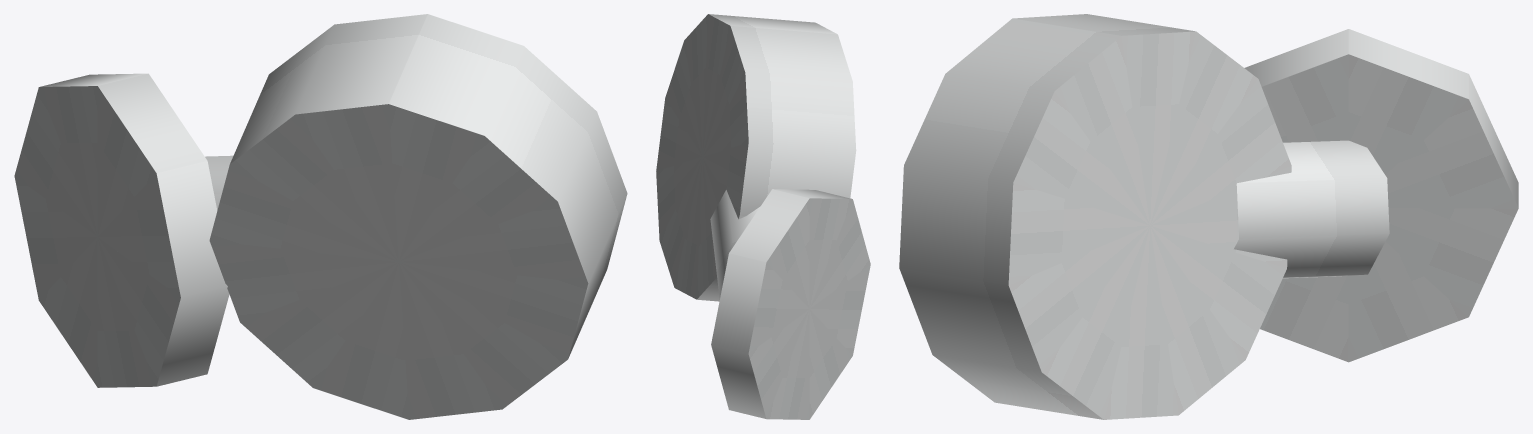
The model's file is nycsignalarm_stub_198.obj.
The picture shows the model from 3 angles, left to right: view 1: azimuth 30°, elevation 25°; view 2: azimuth 150°, elevation 25°; view 3: azimuth 270°, elevation 25°; orthographic projection. The views are drawn at different scales.
Parts seen in each view (by area): view 1: nycsignalarm_stub_198; view 2: nycsignalarm_stub_198; view 3: nycsignalarm_stub_198.
Part boxes in pixels (<box>): nycsignalarm_stub_198: <box>14,14,627,419</box>; nycsignalarm_stub_198: <box>656,14,870,419</box>; nycsignalarm_stub_198: <box>899,14,1518,419</box>.
Bounding box in the file's own units: 0.441 × 0.4659 × 0.6376.
